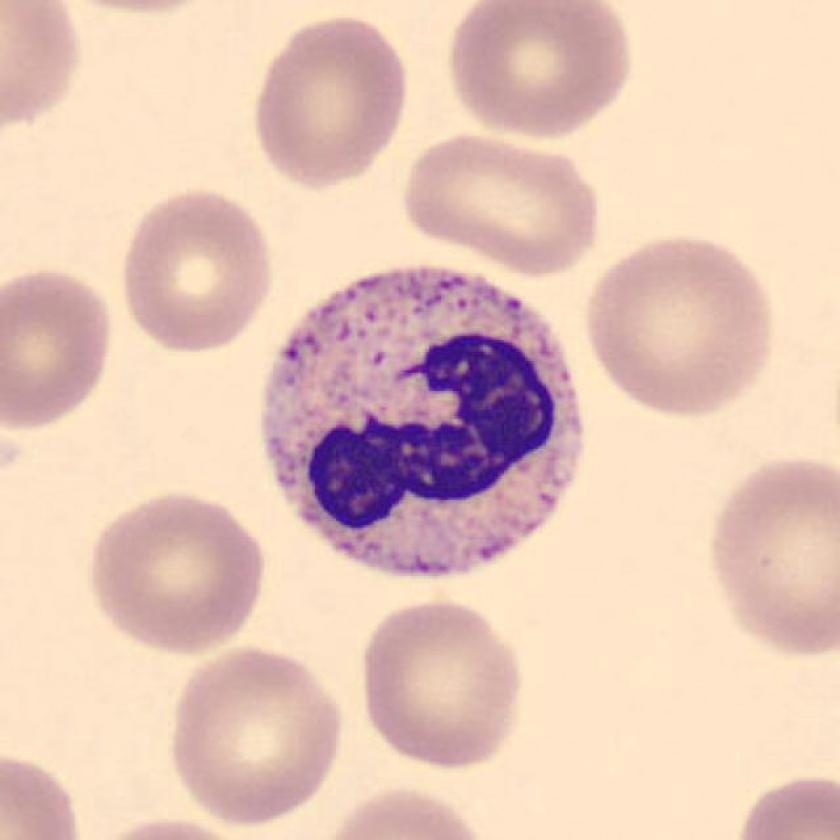neutrophil: (263, 267, 583, 576)
